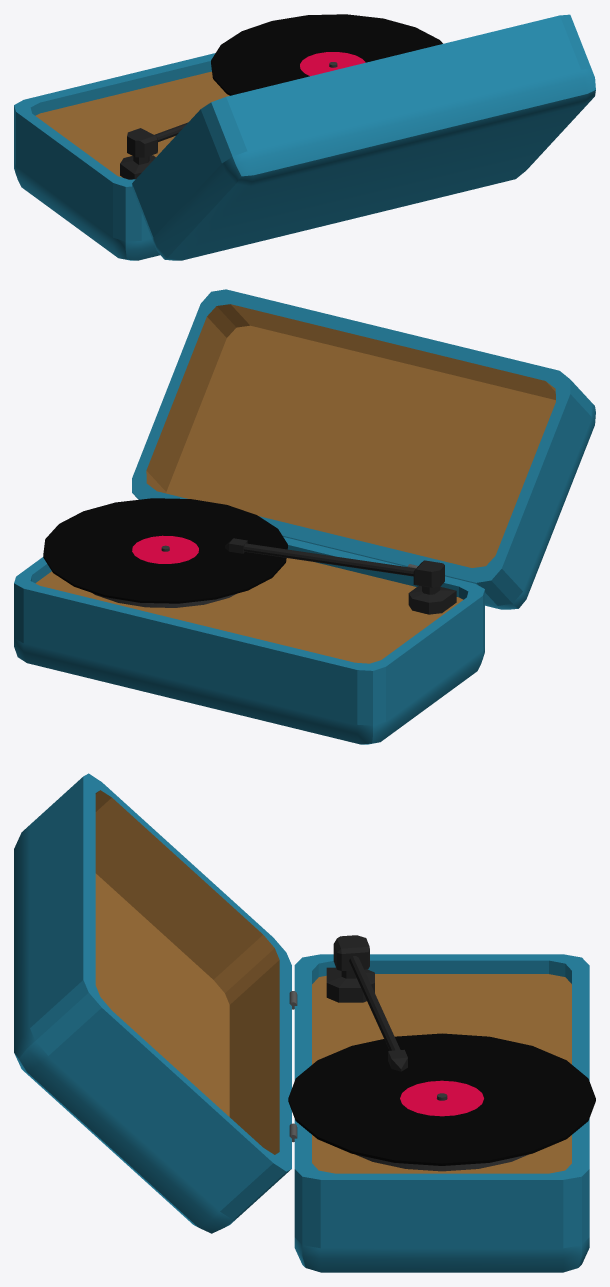
The model's file is LP_Case.fbx.
3 views of the same model, one above another, from view 1: azimuth 30°, elevation 25°; view 2: azimuth 150°, elevation 25°; view 3: azimuth 270°, elevation 25° (orthographic). The views are drawn at different scales.
Parts seen in each view (by area): view 1: Case_Top, Case_Bottom, Plaat, pCube2, pCube1; view 2: Case_Top, Case_Bottom, Plaat, pCylinder4, pCube1, pCube2, pCylinder3; view 3: Case_Top, Case_Bottom, Plaat, pCube1, pCylinder4, pCube2, pCylinder3.
Part boxes in pixels (bbox=[...]): Case_Top: bbox=[132, 14, 595, 260]; Case_Bottom: bbox=[14, 53, 229, 260]; Plaat: bbox=[211, 14, 442, 95]; pCube2: bbox=[127, 128, 157, 157]; pCube1: bbox=[120, 155, 155, 179]; Case_Top: bbox=[132, 289, 595, 609]; Case_Bottom: bbox=[14, 537, 484, 744]; Plaat: bbox=[43, 498, 287, 603]; pCylinder4: bbox=[243, 543, 415, 576]; pCube1: bbox=[408, 586, 456, 614]; pCube2: bbox=[413, 560, 444, 587]; pCylinder3: bbox=[93, 545, 236, 607]; Case_Top: bbox=[14, 773, 291, 1233]; Case_Bottom: bbox=[294, 954, 589, 1272]; Plaat: bbox=[288, 1033, 595, 1165]; pCube1: bbox=[326, 967, 374, 1002]; pCylinder4: bbox=[349, 956, 400, 1050]; pCube2: bbox=[333, 935, 369, 970]; pCylinder3: bbox=[355, 1093, 528, 1171].
Size of the model in its own units: 1.84 by 1.09 by 1.97.
